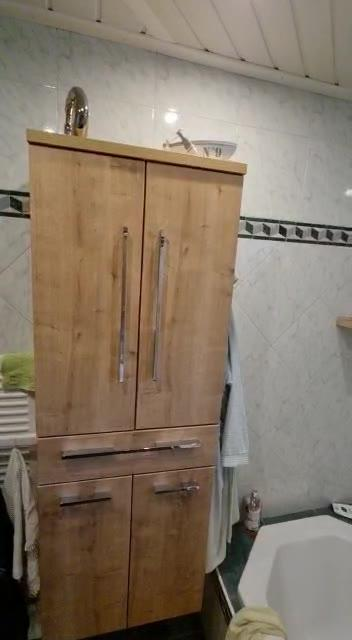cabinet_door: (31, 145, 143, 427), (152, 171, 228, 424), (37, 489, 129, 640), (134, 477, 210, 613)
handle: (49, 434, 210, 462), (116, 218, 136, 413), (154, 194, 171, 396), (56, 489, 114, 515), (152, 479, 198, 504)
